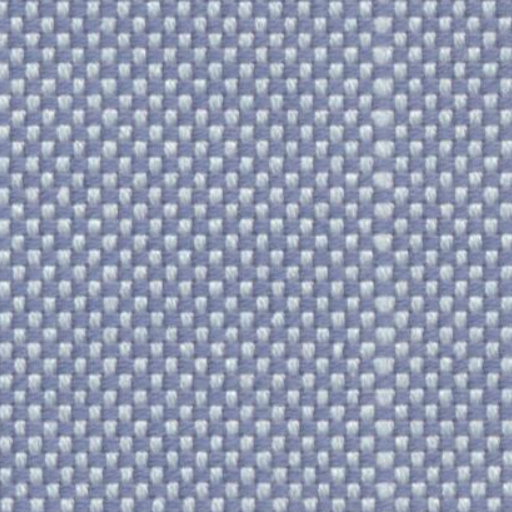TuoSha: (346, 20, 421, 496)
